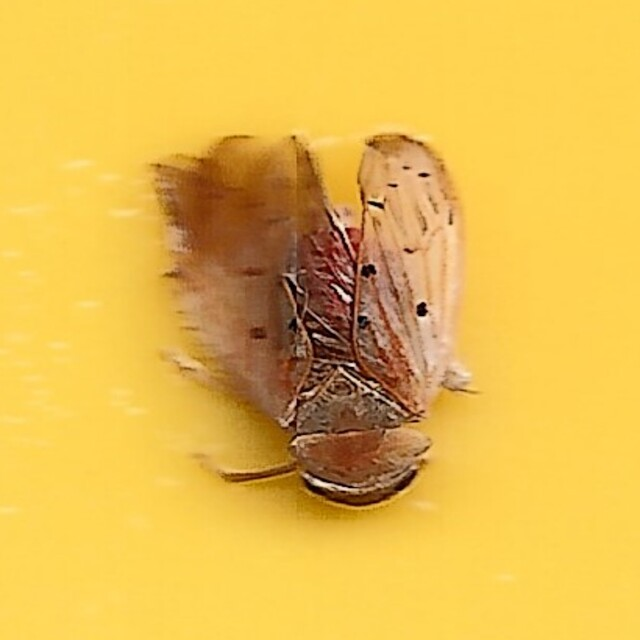Hemiptera: (156, 126, 484, 514)
